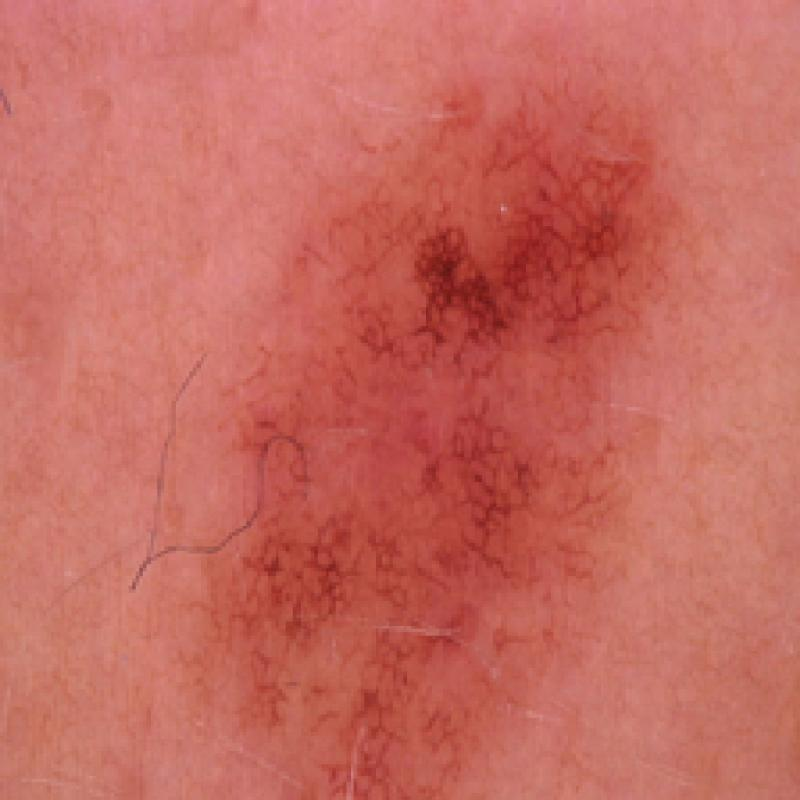benign: (152, 83, 696, 797)
